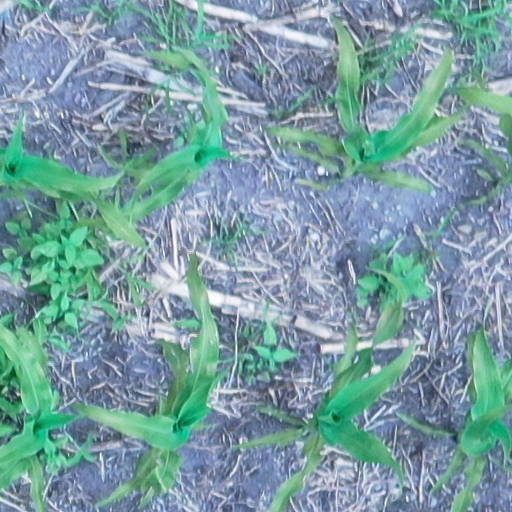planta: (263, 12, 484, 196), (71, 251, 222, 507), (73, 45, 236, 230)
